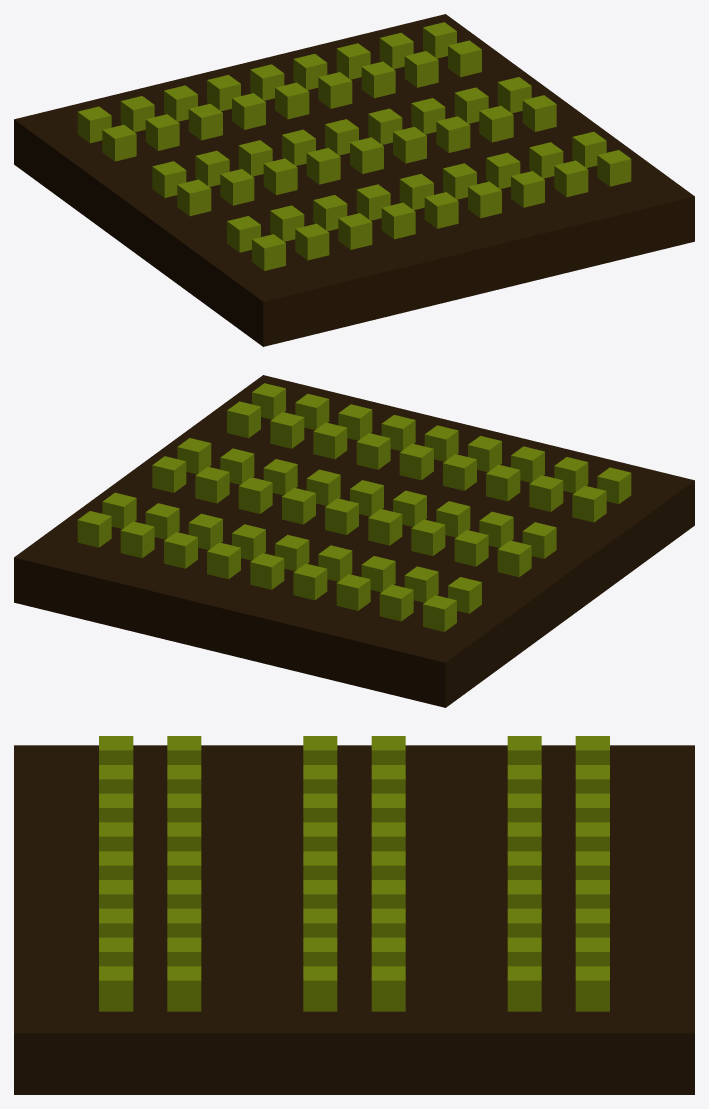
Rendered from Crop2.obj.
The picture shows the model from 3 angles, top to bottom: view 1: azimuth 30°, elevation 25°; view 2: azimuth 150°, elevation 25°; view 3: azimuth 270°, elevation 25°; orthographic projection. The views are drawn at different scales.
Visible parts, largest first — view 1: CropBare003, Box636; view 2: CropBare003, Box636; view 3: CropBare003, Box636.
Boxes of the visible parts, x1,y1,x2,y2 form: CropBare003: (14, 14, 694, 346); Box636: (77, 22, 631, 270); CropBare003: (14, 375, 694, 707); Box636: (77, 383, 631, 631); CropBare003: (14, 745, 694, 1094); Box636: (99, 736, 609, 1011).
Bounding box in the file's own units: 10 × 1.5 × 10.
